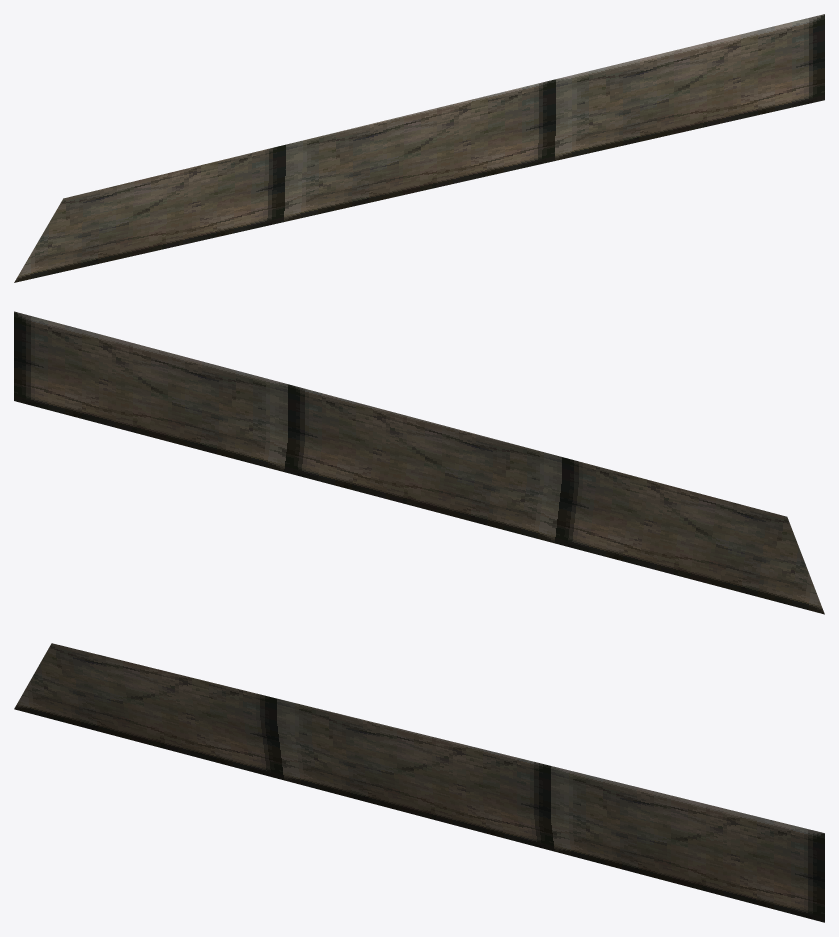
Rendered from CH09_SMAUG_PLAYSURFACE_LAIR122.fbx.
3 renders of one model, top to bottom at view 1: azimuth 30°, elevation 25°; view 2: azimuth 150°, elevation 25°; view 3: azimuth 330°, elevation 25°, orthographic. The views are drawn at different scales.
Visible parts, largest first — view 1: CH09_SMAUG_PLAYSURFACE_LAIR122; view 2: CH09_SMAUG_PLAYSURFACE_LAIR122; view 3: CH09_SMAUG_PLAYSURFACE_LAIR122.
Boxes of the visible parts, bbox=[...] form: CH09_SMAUG_PLAYSURFACE_LAIR122: bbox=[14, 14, 824, 282]; CH09_SMAUG_PLAYSURFACE_LAIR122: bbox=[14, 311, 824, 614]; CH09_SMAUG_PLAYSURFACE_LAIR122: bbox=[14, 643, 824, 922].
Size of the model in its own units: 58975 by 6106 by 1986.
1 material, 1 textured.
